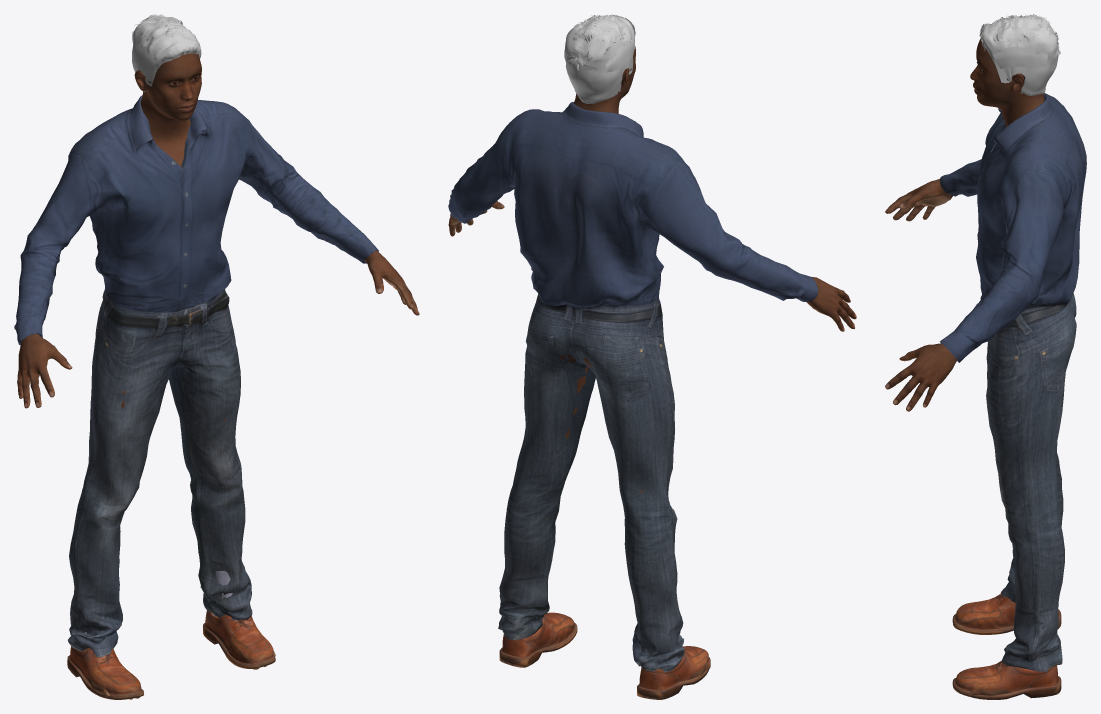
The model's file is civilian_001_source.obj.
The picture shows the model from 3 angles, left to right: view 1: azimuth 30°, elevation 25°; view 2: azimuth 150°, elevation 25°; view 3: azimuth 270°, elevation 25°; orthographic projection.
Visible parts, largest first — view 1: male_casualsuit01.obj, base.obj, shoes01.obj, short01.obj; view 2: male_casualsuit01.obj, short01.obj, shoes01.obj, base.obj; view 3: male_casualsuit01.obj, base.obj, shoes01.obj, short01.obj.
Boxes of the visible parts, box(x1,y1,x2,y2) form: male_casualsuit01.obj: box(14, 95, 378, 657); base.obj: box(17, 53, 419, 699); shoes01.obj: box(67, 570, 275, 699); short01.obj: box(132, 14, 201, 91); male_casualsuit01.obj: box(448, 102, 818, 672); short01.obj: box(564, 14, 635, 103); shoes01.obj: box(499, 612, 710, 699); base.obj: box(448, 46, 856, 679); male_casualsuit01.obj: box(940, 93, 1086, 671); base.obj: box(885, 38, 1044, 695); shoes01.obj: box(952, 593, 1061, 699); short01.obj: box(979, 14, 1060, 95).
Size of the model in its own units: 1.22 by 1.91 by 0.5434.
